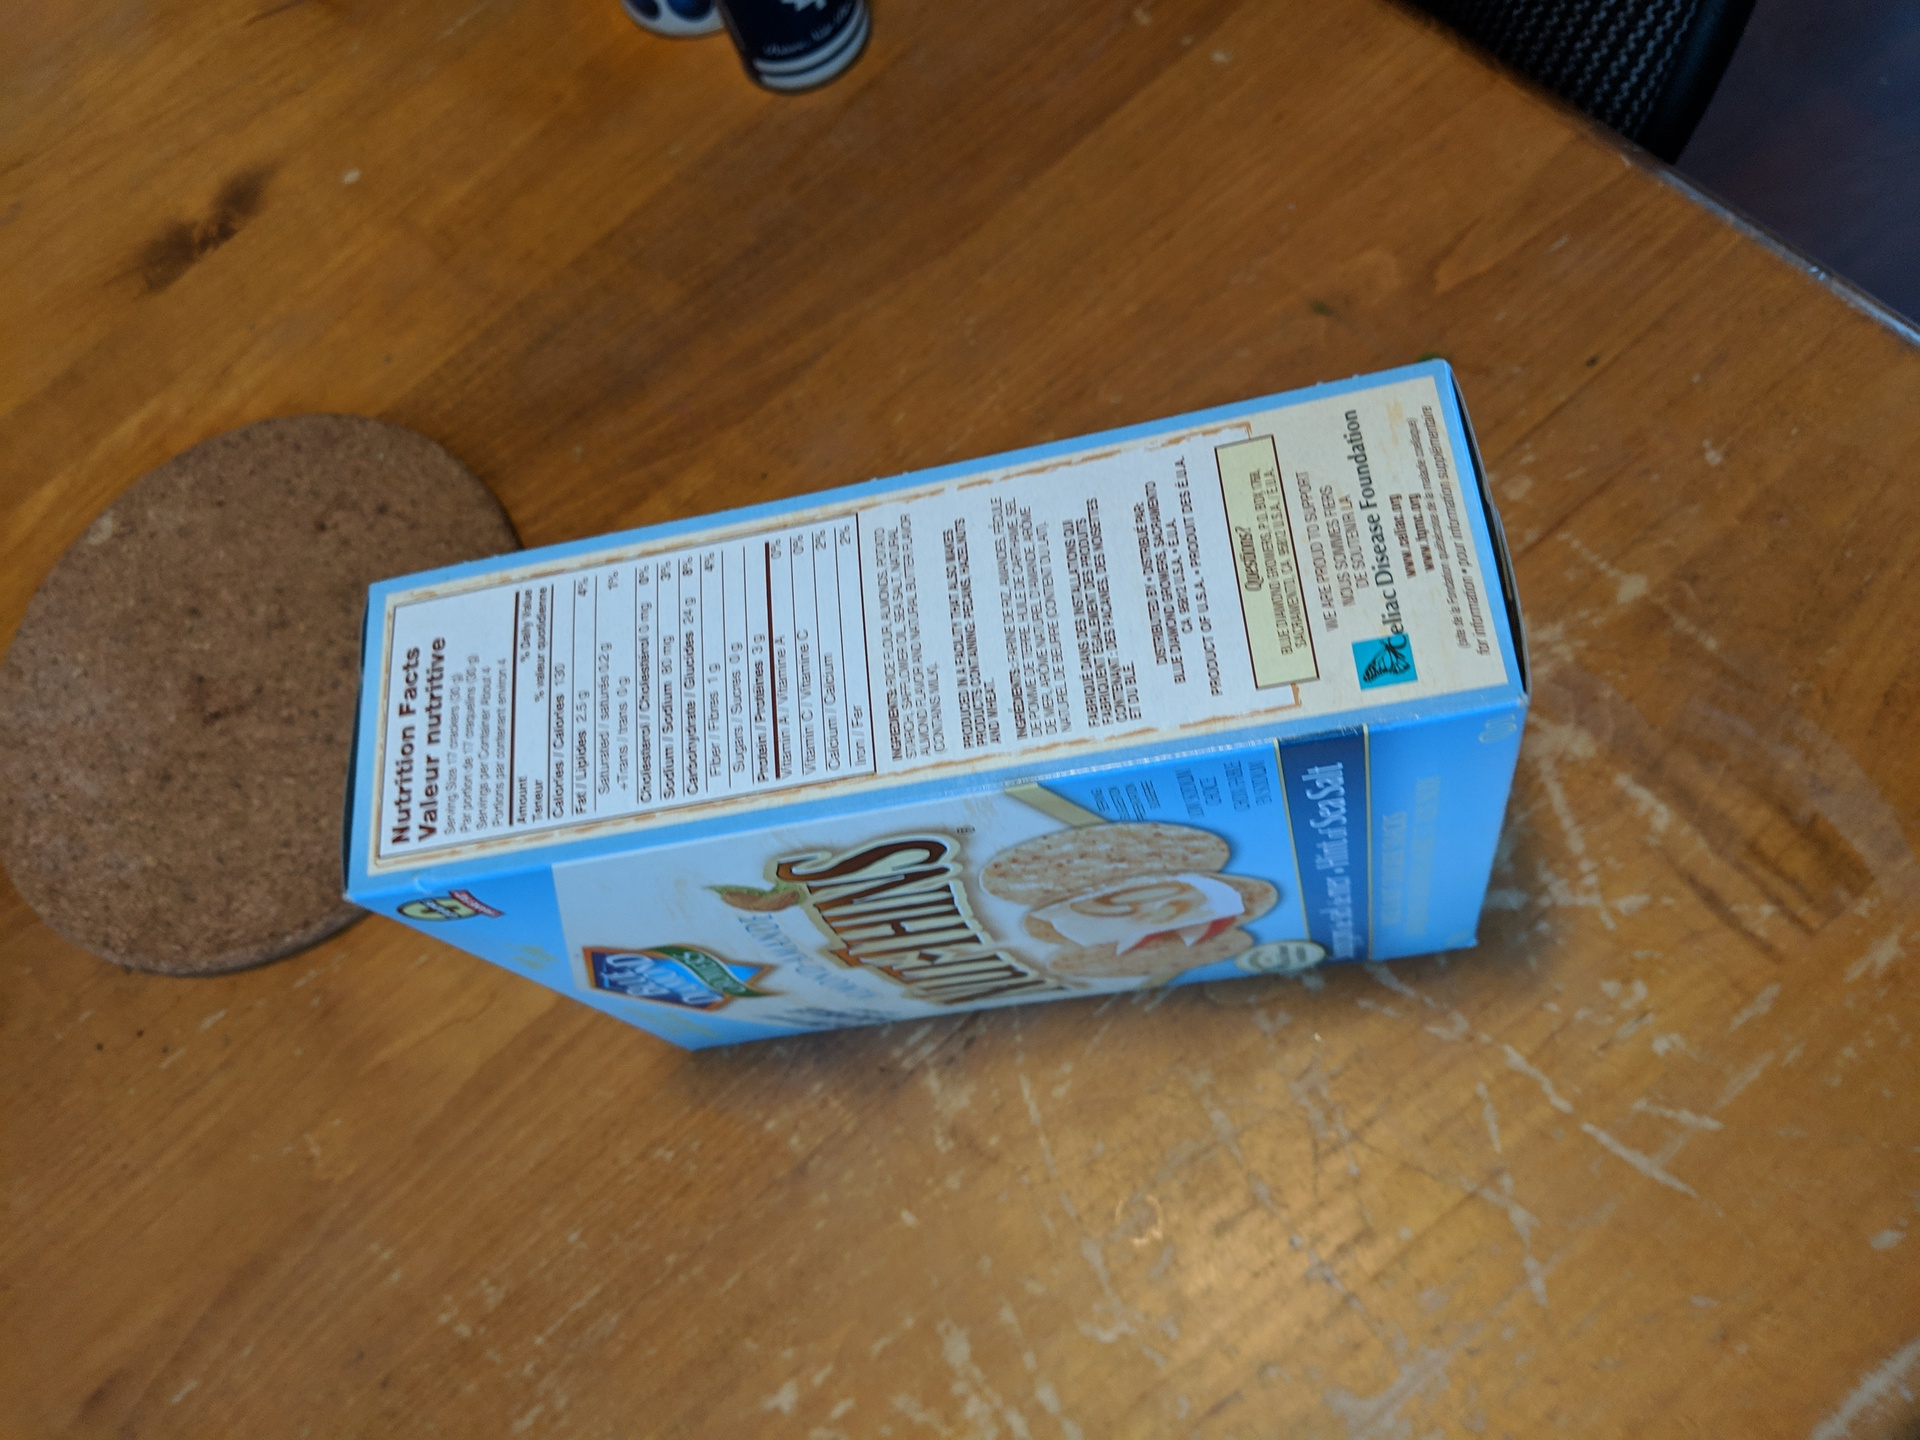blue_diamond_nut_thins_almond_seasalt: (367, 381, 1489, 1053)
